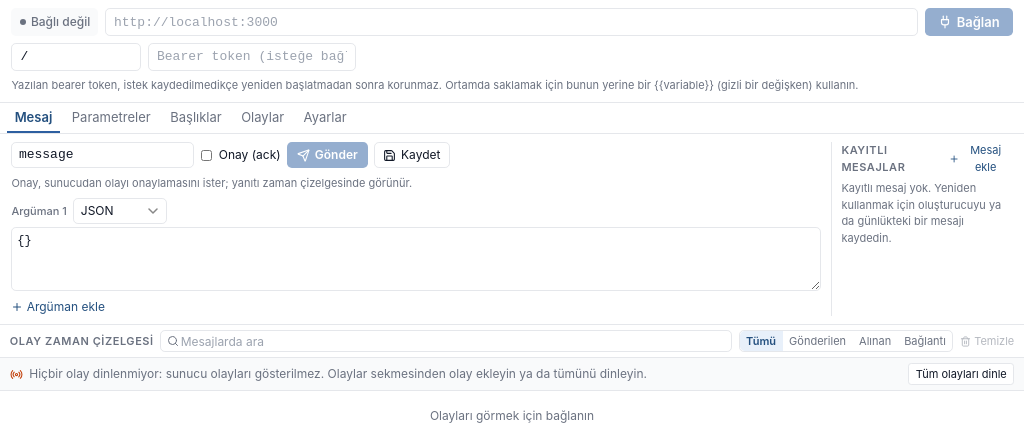
issue #248 follow-up — protocol editor bodies in Turkish › Socket.IO message / events / timeline (the body, not the connection bar)
The image size is (1024, 440).
Expected: the text "Kayıtlı mesajlar" is shown, [841, 144, 905, 174]
Expected: the text "Olayları görmek için bağlanın" is shown, [430, 408, 594, 423]
# Issue #283: the Events tab (listeners) replaced the subscribe box.
Click the tab "Olaylar" at (263, 118), box [233, 103, 292, 133]
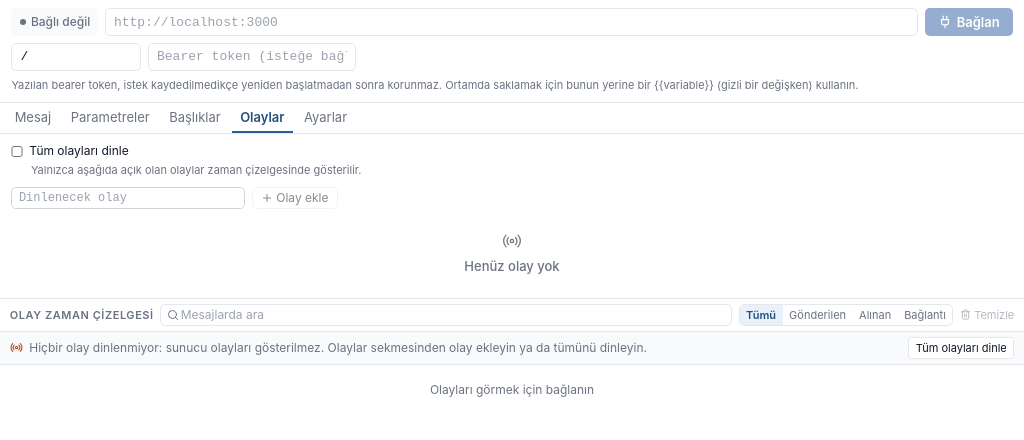
Expected: the text "Tüm olayları dinle" is shown 2 times, [11, 144, 129, 158]; [908, 337, 1014, 359]
Result: the text "Henüz olay yok" is shown at [464, 257, 560, 277]
